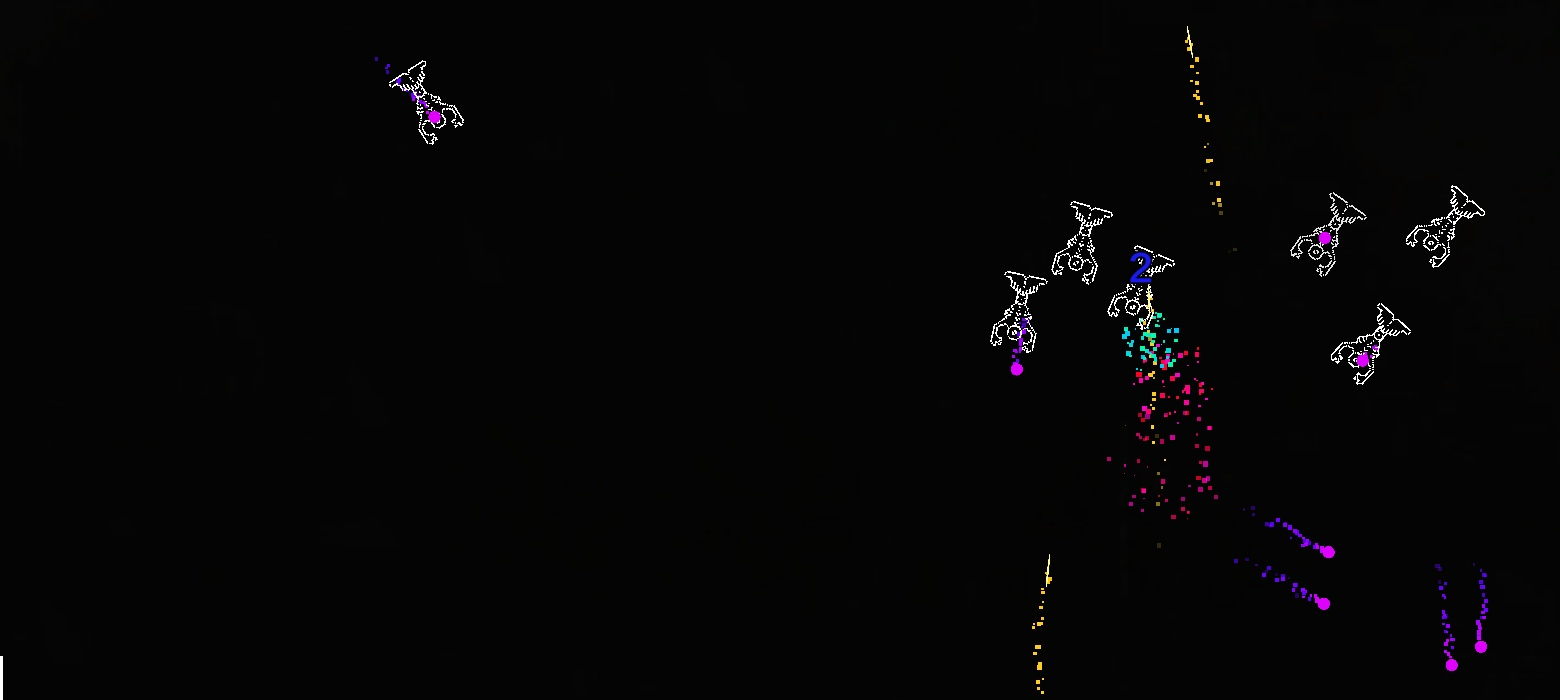enemy: (1406, 184, 1485, 268), (1331, 303, 1411, 385), (388, 59, 464, 145), (1291, 192, 1367, 277), (1106, 245, 1175, 329), (1051, 200, 1114, 285), (990, 270, 1048, 353)
